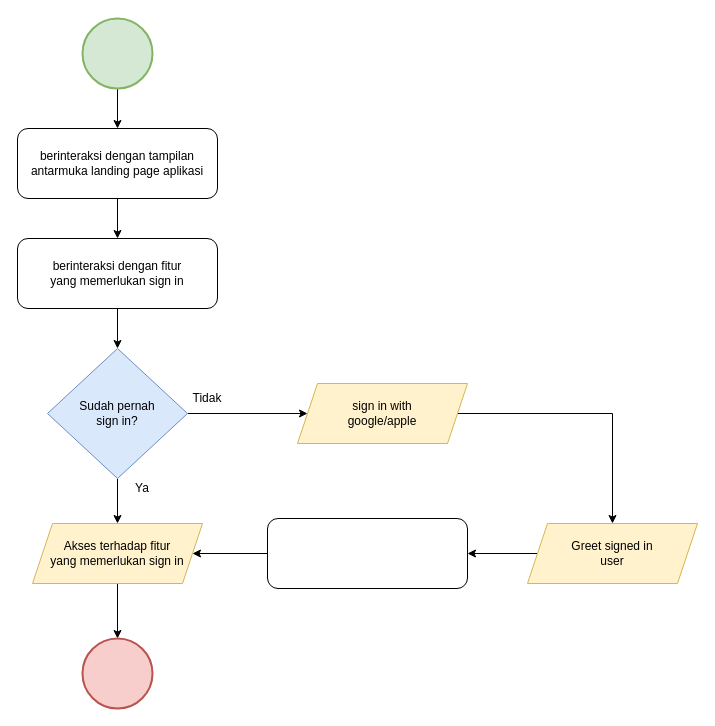
This 715x726 diagram has some shape labels left out. The shapes that lost their labels are listed below. From the top down, each one's box as (x1, y1, x2, y2) in pixels, then its label:
(81, 17, 153, 89): Start
(266, 518, 468, 588): Aplikasi menyimpan state user yang telah sign in
(81, 637, 153, 709): End
